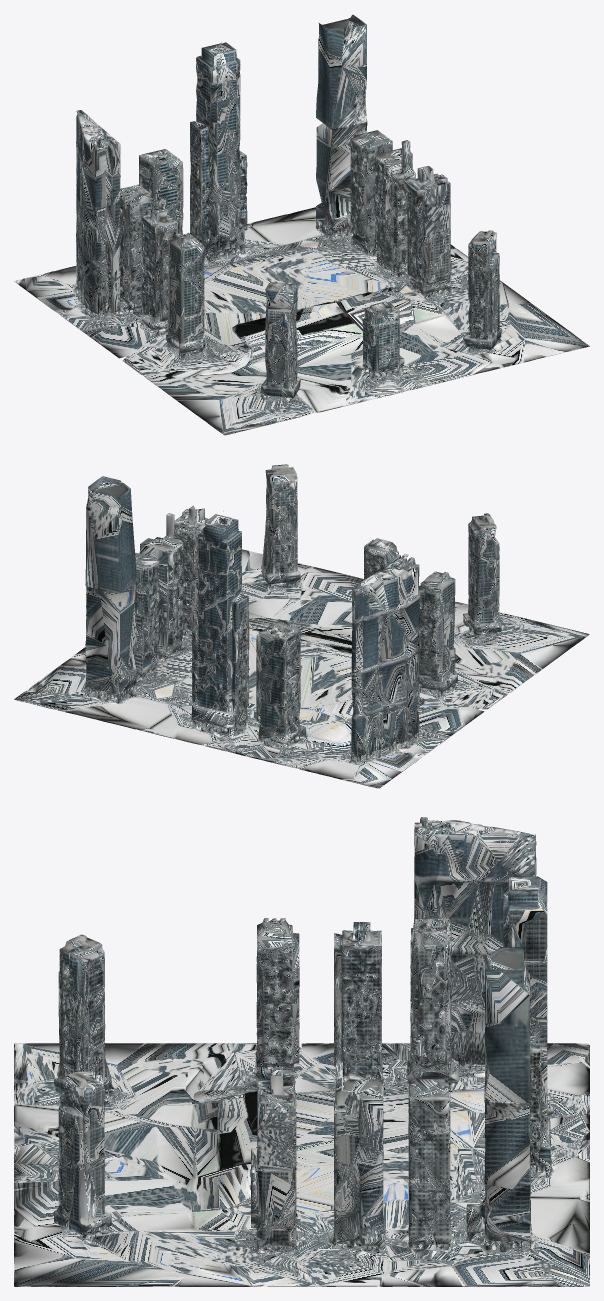
File: mx_dr_dio_uber.glb
The picture shows the model from 3 angles, top to bottom: view 1: azimuth 30°, elevation 25°; view 2: azimuth 150°, elevation 25°; view 3: azimuth 270°, elevation 25°; orthographic projection. The views are drawn at different scales.
Parts seen in each view (by area): view 1: Mesh_0; view 2: Mesh_0; view 3: Mesh_0.
Boxes of the visible parts, box(x1,y1,x2,y2) form: Mesh_0: box(14, 14, 589, 435); Mesh_0: box(14, 464, 589, 788); Mesh_0: box(14, 817, 589, 1286).
Bounding box in the file's own units: 1.9 × 1.07 × 1.9.
Materials: 1 (1 with a texture image).
